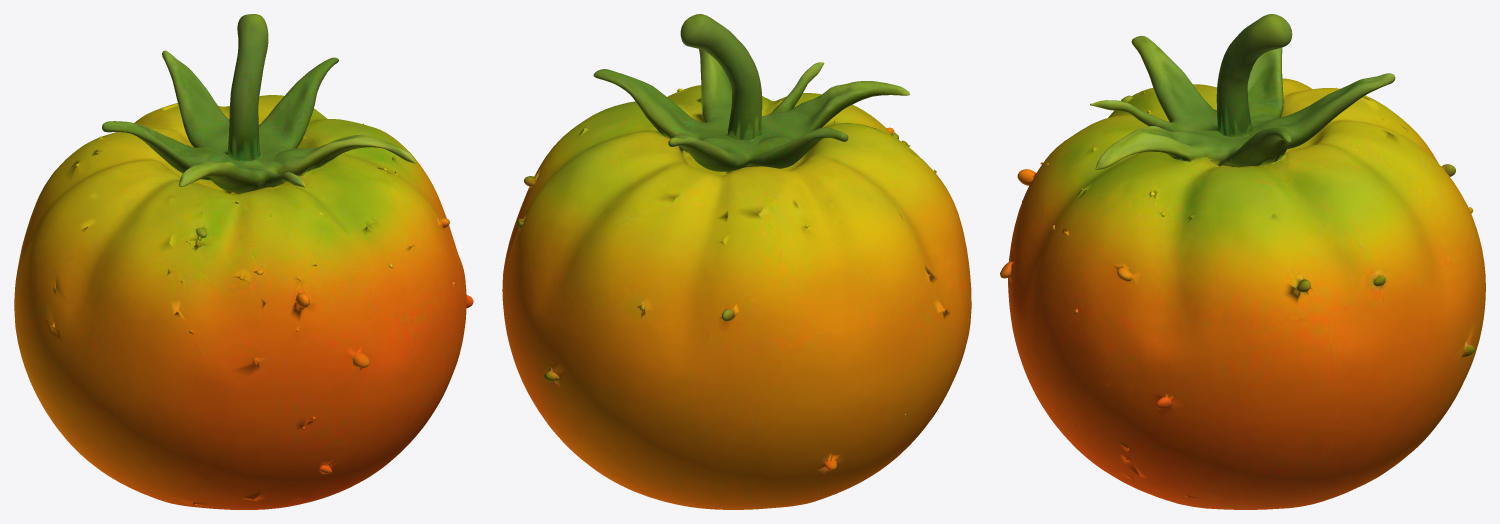
The model's file is half.glb.
3 views of the same model, side by side, from view 1: azimuth 30°, elevation 25°; view 2: azimuth 150°, elevation 25°; view 3: azimuth 270°, elevation 25° (orthographic). The views are drawn at different scales.
Visible parts, largest first — view 1: tripo_node_e42cc194-a14b-4364-8f49-57b38d5eab8a; view 2: tripo_node_e42cc194-a14b-4364-8f49-57b38d5eab8a; view 3: tripo_node_e42cc194-a14b-4364-8f49-57b38d5eab8a.
Part boxes in pixels (<box>): tripo_node_e42cc194-a14b-4364-8f49-57b38d5eab8a: <box>14,14,473,509</box>; tripo_node_e42cc194-a14b-4364-8f49-57b38d5eab8a: <box>502,14,971,509</box>; tripo_node_e42cc194-a14b-4364-8f49-57b38d5eab8a: <box>1000,14,1485,509</box>.
Size of the model in its own units: 0.9146 by 0.9798 by 0.927.
1 material, 1 textured.
